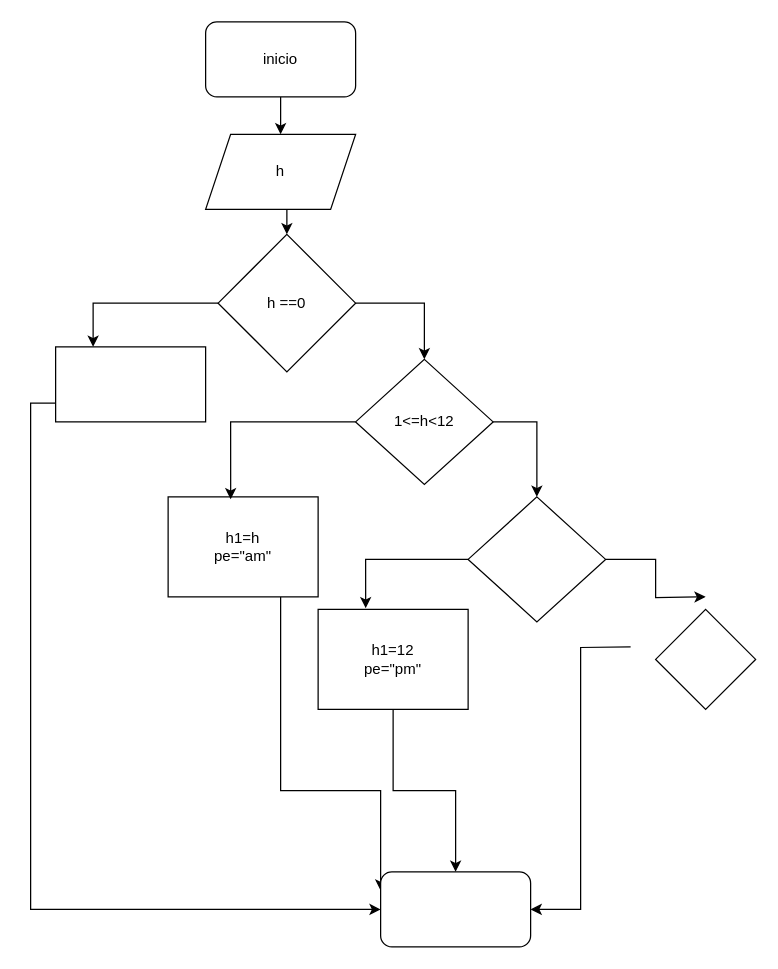
Some shapes in this 778 by 969 pixel diagram are drawn without their labels. The shapes that lost their labels are listed below. From the top down, each one's centre as x and y in pixels, then its label:
(130,384): h1 =12 pe"am"
(536,559): h=12
(455,909): Fin
